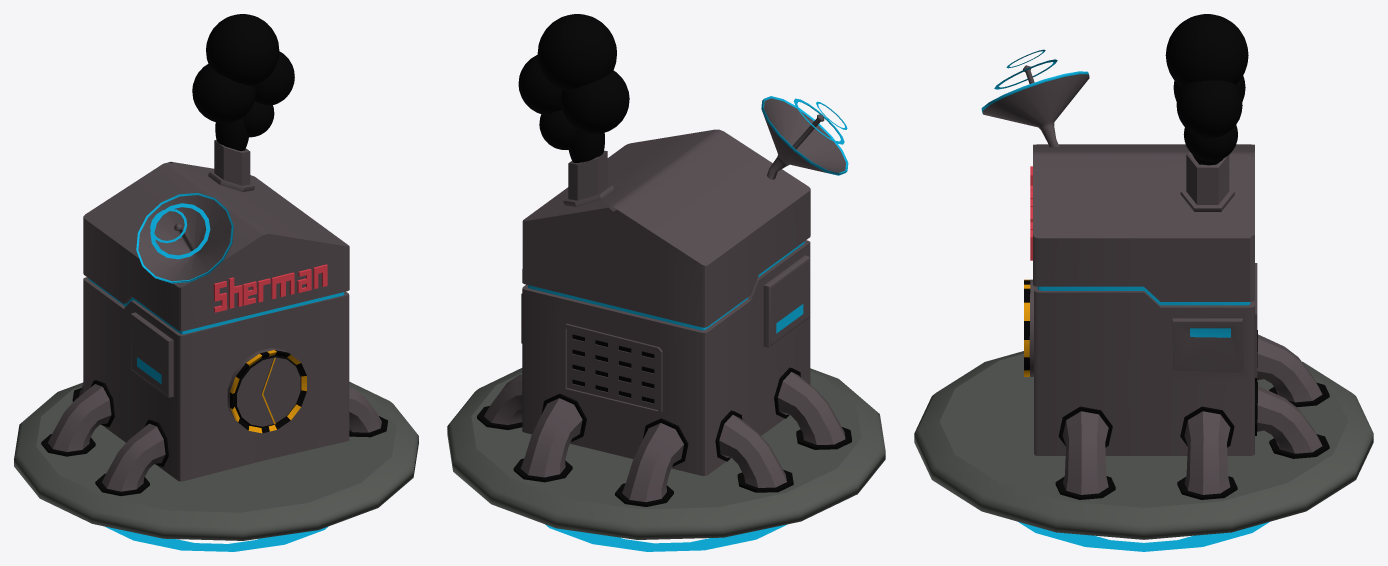
The model's file is SherrmyFBX.fbx.
3 views of the same model, side by side, from view 1: azimuth 30°, elevation 25°; view 2: azimuth 150°, elevation 25°; view 3: azimuth 270°, elevation 25° (orthographic). The views are drawn at different scales.
Visible parts, largest first — view 1: Shermans, Cylinder.001, Sphere, Cube.001, Cylinder.002, Plane.005; view 2: Shermans, Cylinder.001, Sphere, Cube.001, Cube.002, Cylinder.002; view 3: Shermans, Cylinder.001, Sphere, Cube.001, Cube.002, Cylinder.002.
Boxes of the visible parts, x1,y1,x2,y2 form: Shermans: (83, 140, 349, 481); Cylinder.001: (14, 203, 418, 551); Sphere: (192, 14, 294, 150); Cube.001: (41, 380, 387, 495); Cylinder.002: (136, 193, 233, 283); Plane.005: (213, 264, 327, 312); Shermans: (521, 129, 810, 475); Cylinder.001: (447, 98, 885, 551); Sphere: (518, 14, 629, 162); Cube.001: (477, 367, 851, 492); Cube.002: (513, 393, 688, 506); Cylinder.002: (761, 96, 848, 179); Shermans: (1024, 144, 1257, 455); Cylinder.001: (914, 49, 1373, 551); Sphere: (1165, 14, 1248, 165); Cube.001: (1055, 406, 1237, 499); Cube.002: (1255, 330, 1329, 458); Cylinder.002: (981, 65, 1089, 147).
Size of the model in its own units: 414 by 518 by 414.
